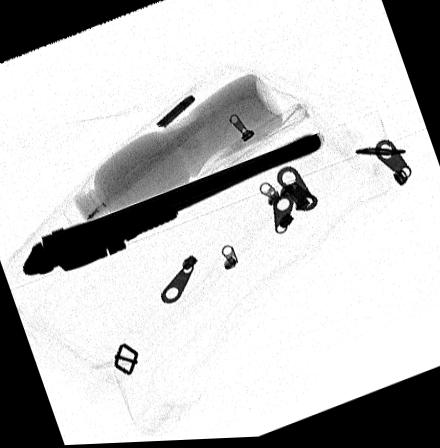Wrench: (20, 134, 322, 276)
